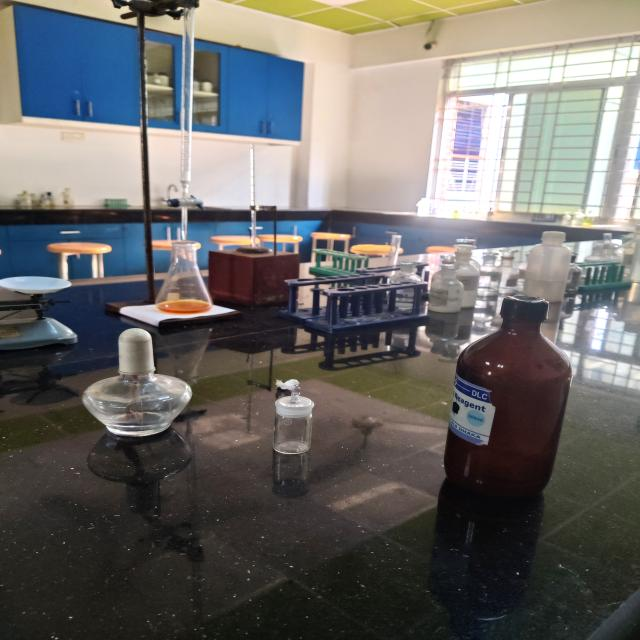Nessler_Reagent_Bottle: (416, 282, 604, 522)
Spirit_Lamp: (77, 320, 207, 461)
Weighing_Bottle: (254, 368, 337, 466)
